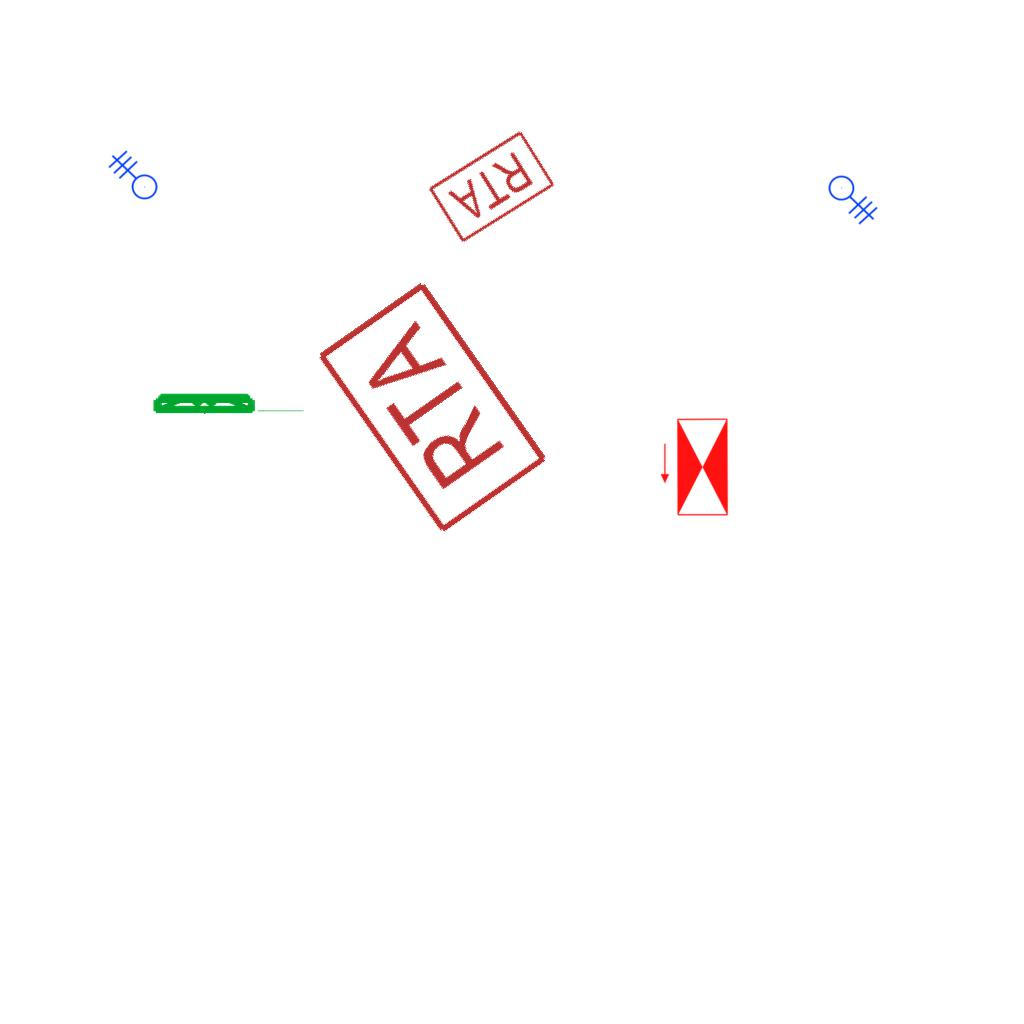Elektroanschluss_allgemein_400V_Geraeteanschlussdose_400V: (828, 167, 884, 225), (102, 150, 158, 208)
Fluchtwegpiktogramm: (658, 415, 731, 519)
Ruf-und_Abstelltaster: (312, 276, 556, 542), (425, 126, 560, 246)
Sicherheitsleuchte_Wandeinbau: (150, 390, 309, 415)
